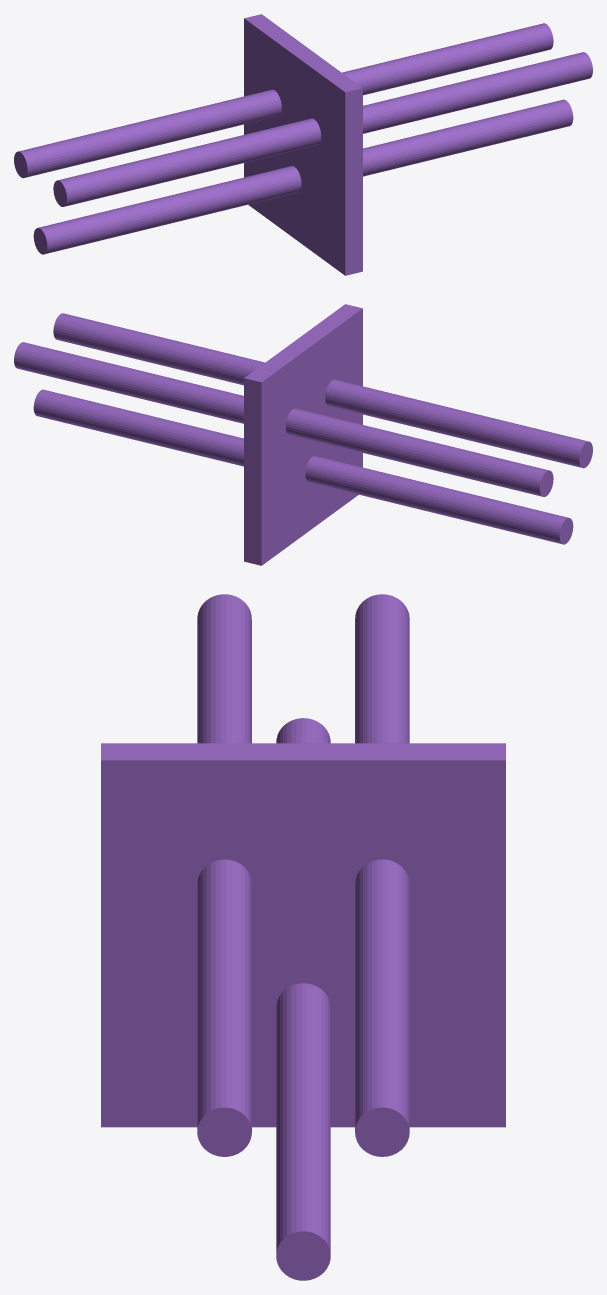
The model's file is myosin.gltf.
3 renders of one model, top to bottom at view 1: azimuth 30°, elevation 25°; view 2: azimuth 150°, elevation 25°; view 3: azimuth 270°, elevation 25°, orthographic. The views are drawn at different scales.
Visible parts, largest first — view 1: Cylinder, Cube; view 2: Cylinder, Cube; view 3: Cube, Cylinder.
Part boxes in pixels (<box>): Cylinder: <box>14,23,592,254</box>; Cube: <box>244,14,362,275</box>; Cylinder: <box>14,313,592,544</box>; Cube: <box>244,304,362,565</box>; Cube: <box>101,743,505,1127</box>; Cylinder: <box>197,594,409,1280</box>.
Bounding box in the file's own units: 6 × 2 × 2.
